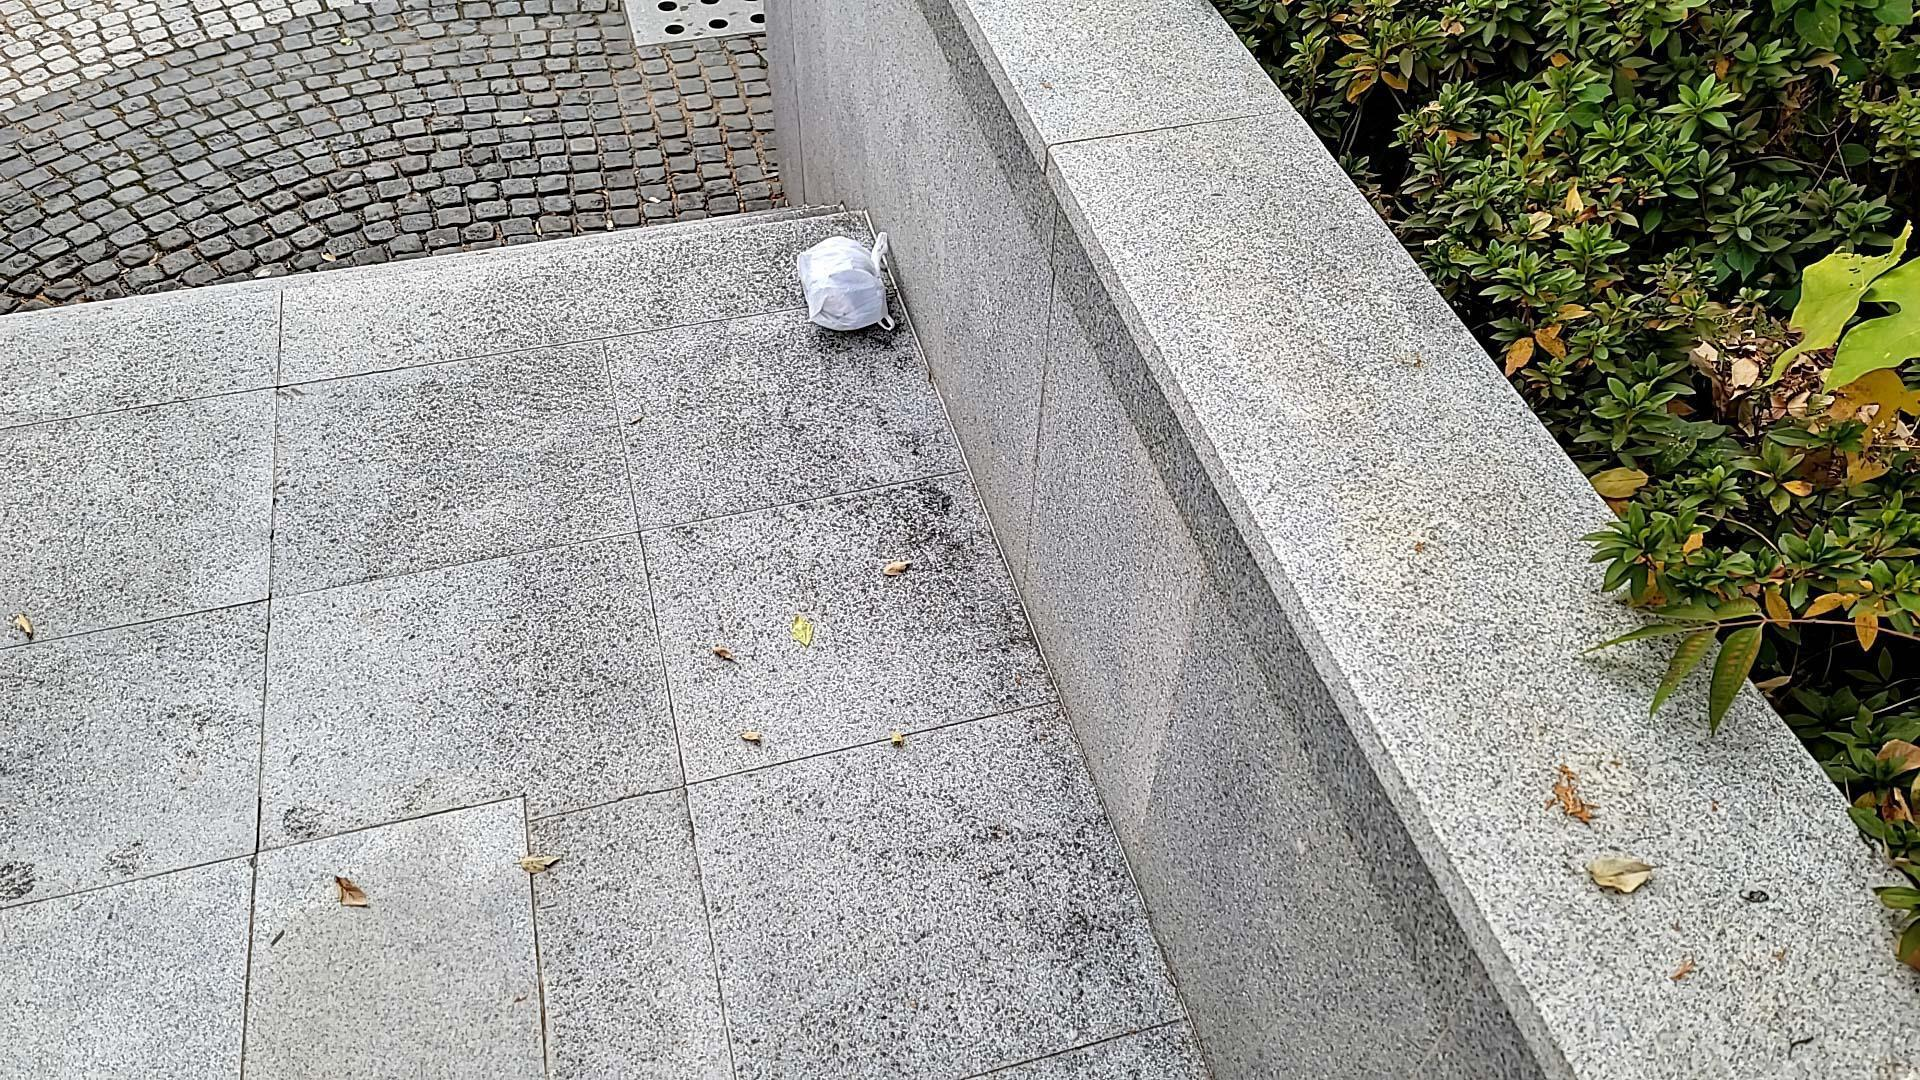white_bag: (782, 220, 905, 342)
